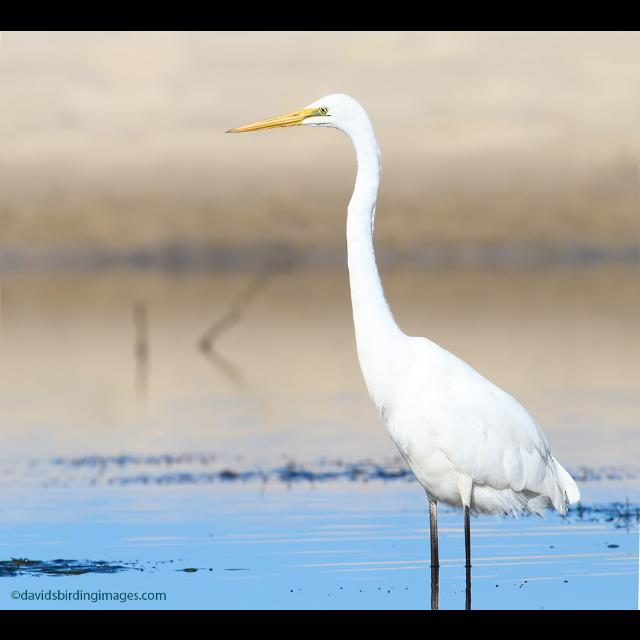egret: (215, 80, 603, 610)
